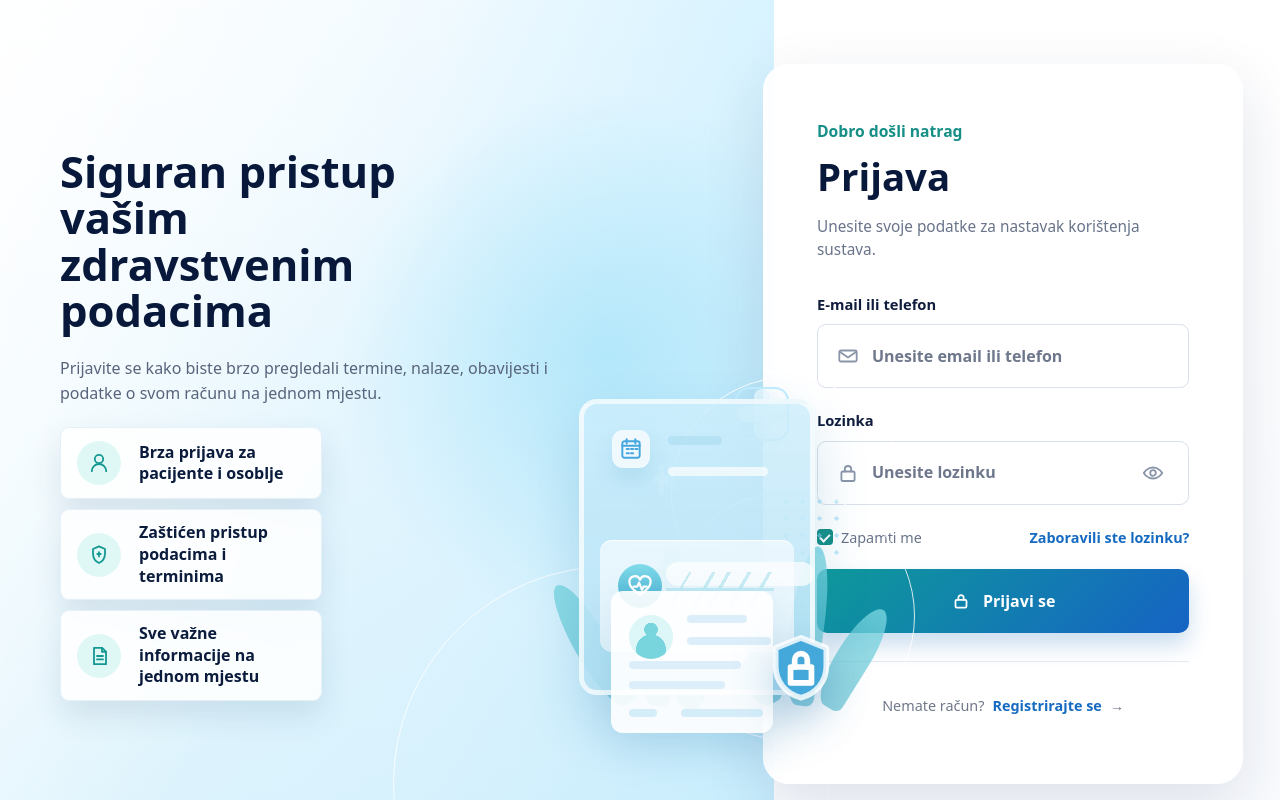
it: LoginPage › navigates to organization selection step when registration button is clicked
Click the button "Registrirajte se" at (1047, 706), box [992, 684, 1102, 728]
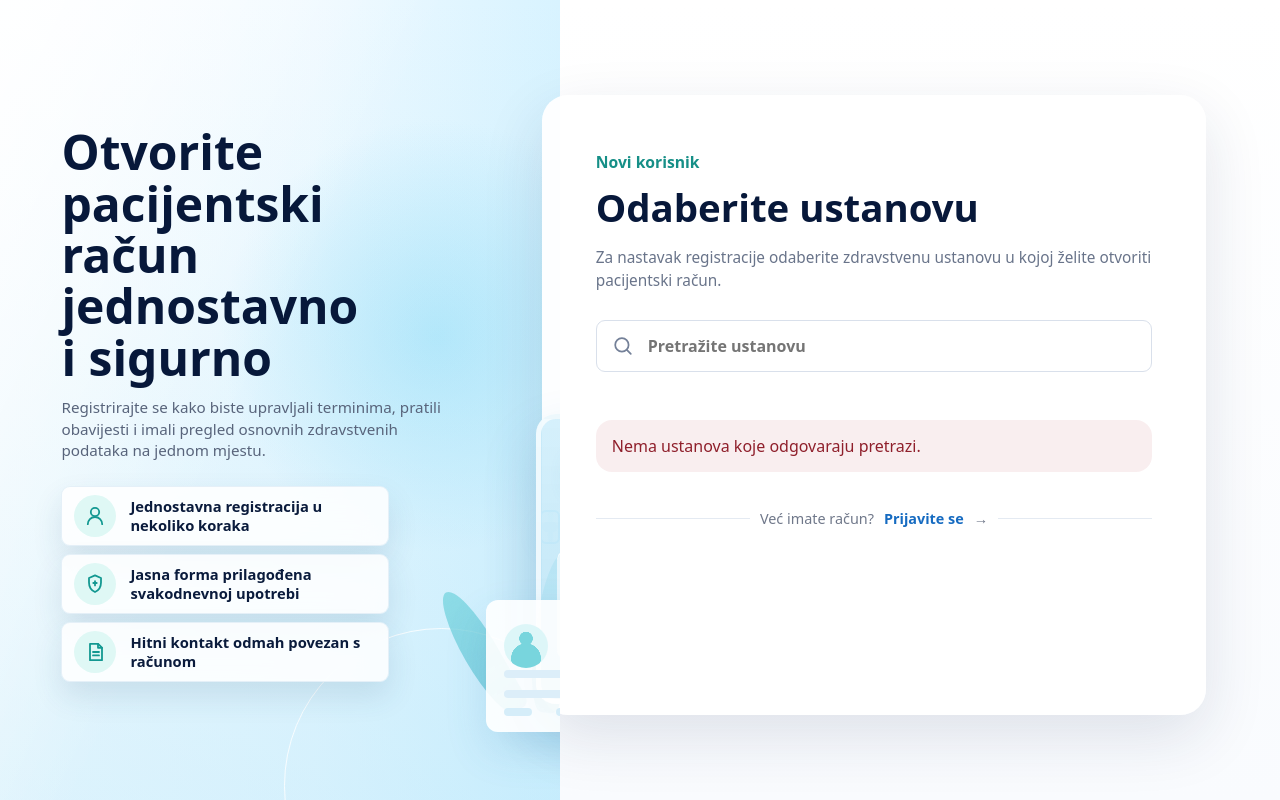
Result: the heading "Odaberite ustanovu" is shown at [596, 181, 979, 233]
